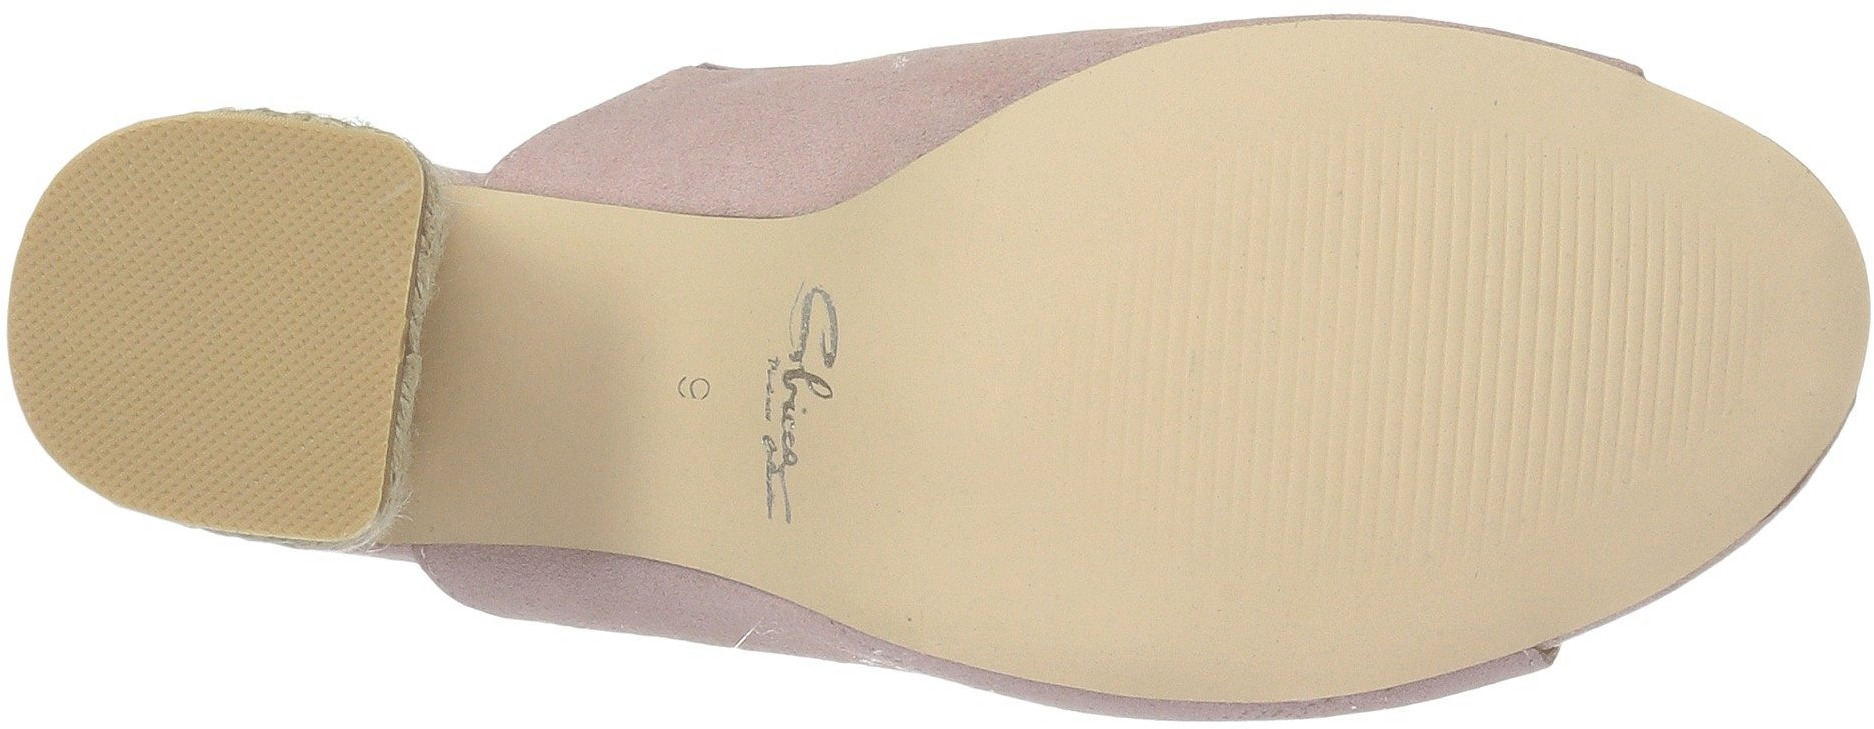exclude: (347, 20, 953, 698)
line: (1144, 220, 1394, 497)
other: (1414, 171, 1743, 452), (1160, 253, 1417, 504), (166, 305, 370, 515), (223, 133, 404, 302), (55, 184, 219, 343)
